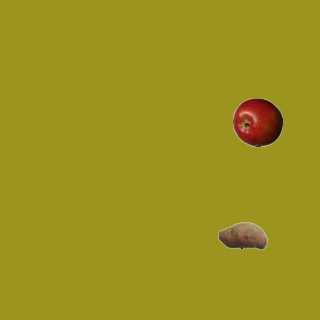Apple Braeburn: (232, 97, 282, 147)
Potato Sweet: (217, 210, 267, 260)
